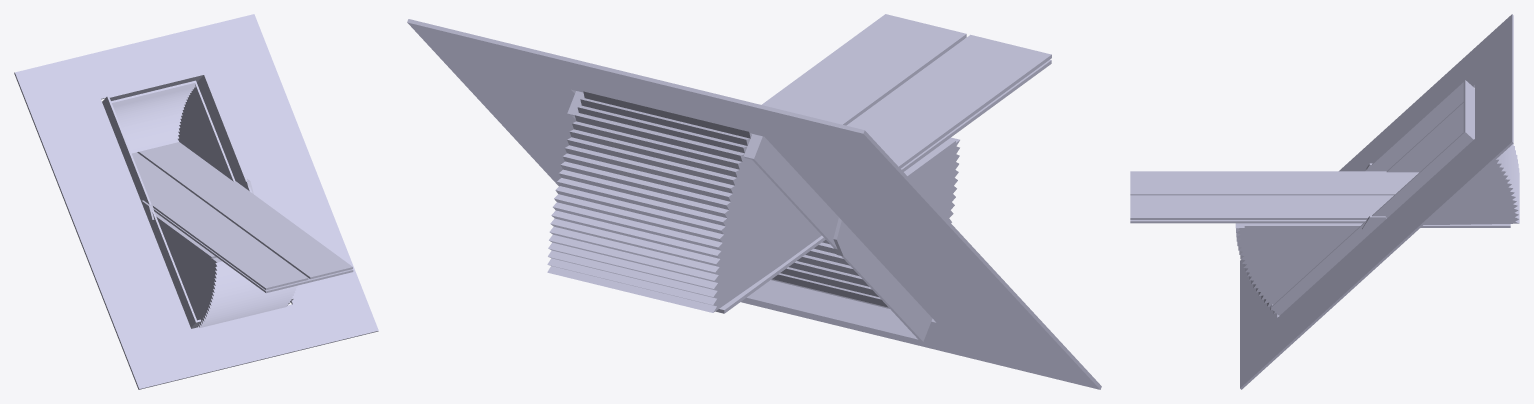
The model's file is RD_Plat25in.glb.
3 renders of one model, left to right at view 1: azimuth 30°, elevation 25°; view 2: azimuth 150°, elevation 25°; view 3: azimuth 270°, elevation 25°, orthographic. The views are drawn at different scales.
Parts seen in each view (by area): view 1: copy_Body021, copy_LinkGroup004, copy_Body022, copy_Body023, copy_Body016, copy_Body, copy_Body017, copy_LinkGroup003; view 2: copy_Body021, copy_Body022, copy_LinkGroup004, copy_Body, copy_Body023, copy_Body017, copy_LinkGroup003, copy_Body002; view 3: copy_Body021, copy_LinkGroup004, copy_Body022, copy_Body, copy_Body023, copy_Body017, copy_Body016, copy_LinkGroup003.
Boxes of the visible parts, x1,y1,x2,y2 form: copy_Body021: (14, 14, 378, 389); copy_LinkGroup004: (149, 186, 353, 293); copy_Body022: (111, 80, 235, 181); copy_Body023: (157, 219, 297, 327); copy_Body016: (137, 142, 296, 238); copy_Body: (102, 72, 293, 328); copy_Body017: (132, 152, 255, 246); copy_LinkGroup003: (154, 212, 216, 258); copy_Body021: (407, 19, 1101, 389); copy_Body022: (547, 91, 821, 312); copy_LinkGroup004: (761, 14, 1051, 171); copy_Body: (567, 91, 932, 341); copy_Body023: (771, 137, 959, 308); copy_Body017: (847, 108, 951, 166); copy_LinkGroup003: (715, 139, 955, 313); copy_Body002: (833, 217, 859, 256); copy_Body021: (1240, 14, 1513, 389); copy_LinkGroup004: (1130, 171, 1395, 223); copy_Body022: (1386, 102, 1519, 224); copy_Body: (1270, 80, 1474, 315); copy_Body023: (1235, 223, 1357, 313); copy_Body017: (1245, 171, 1418, 193); copy_Body016: (1245, 195, 1510, 219); copy_LinkGroup003: (1244, 223, 1510, 227).
Size of the model in its own units: 1.68 by 1.52 by 2.16.
